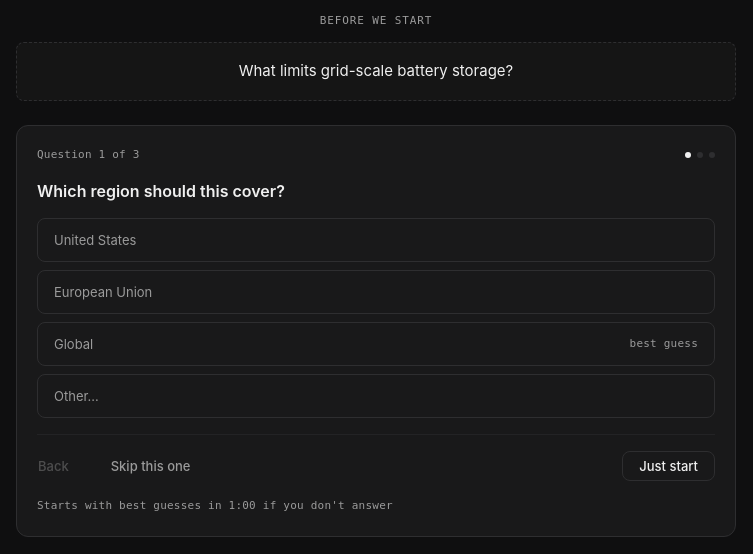
ClarifyStage — the card › an answer the API refuses as late reads 'Already started with best guesses'
Click the button "Just start": (669, 466) 622,451 -> 715,481
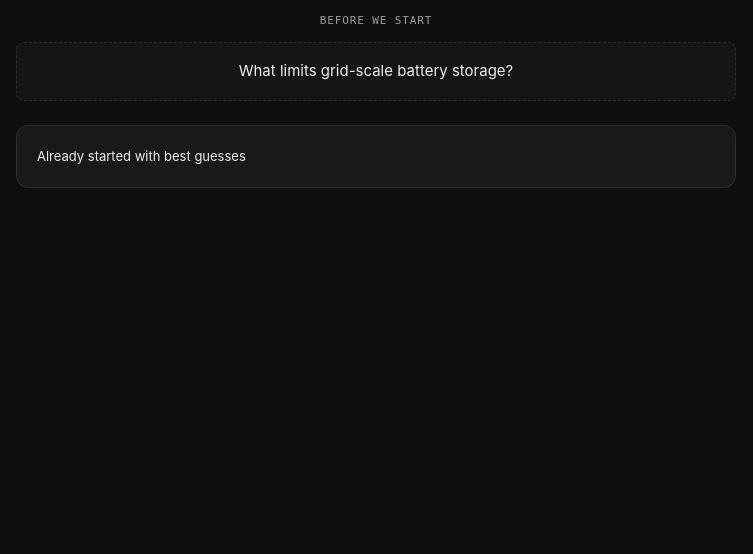
Now the element with id "clarifyCard" reads "Already started with best guesses", box 37,148 -> 246,164
